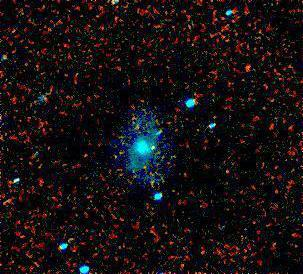star: (138, 132, 168, 162)
